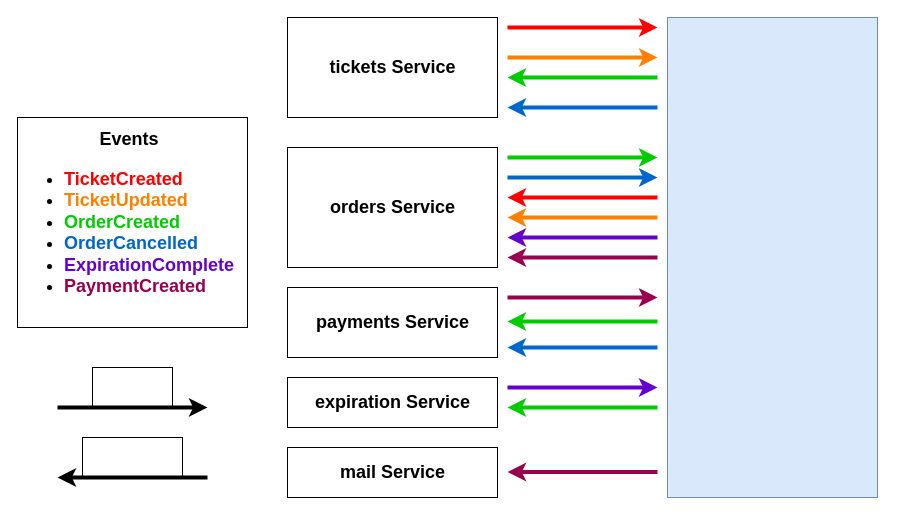
This 900x515 diagram has some shape labels left out. Each missing label, with the centre of its shape:
Event Bus Nats Streaming Server: pixel 772 257
Publish: pixel 132 387
Subscribe: pixel 132 457
